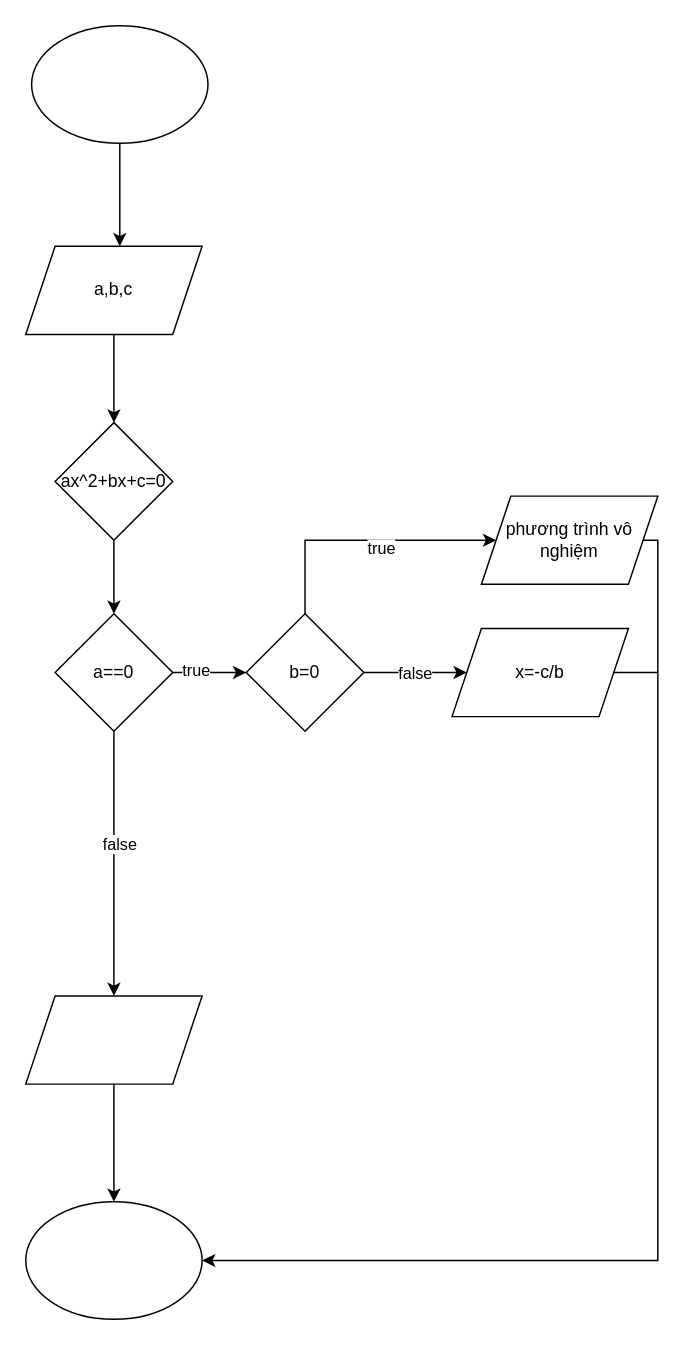
The diagram is 695 pixels wide and 1345 high, and some of its shapes have lost their labels. Each missing label, with the centre of its shape:
"End" belongs at point (113, 1259).
"Start" belongs at point (119, 83).
"x1=(-b-sqrt(delta))/2a x2=(-b+sqrt(delta))/2a" belongs at point (113, 1039).
